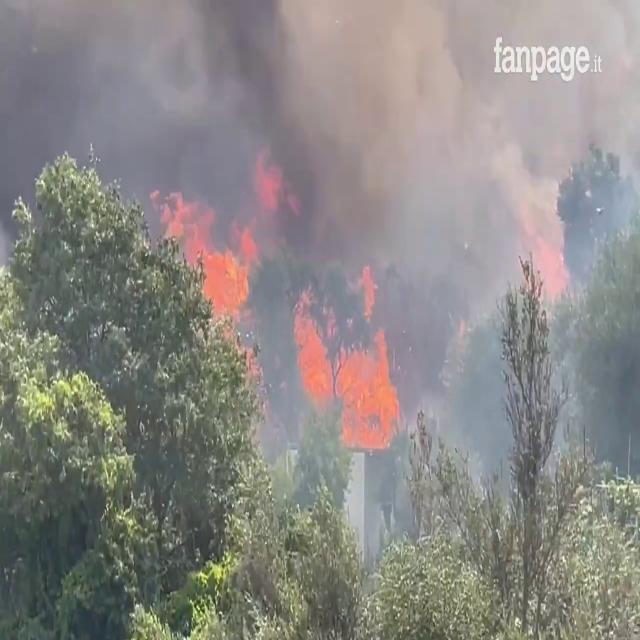Fire: (293, 270, 401, 450), (200, 218, 264, 348)
Smoke: (162, 0, 638, 506)
